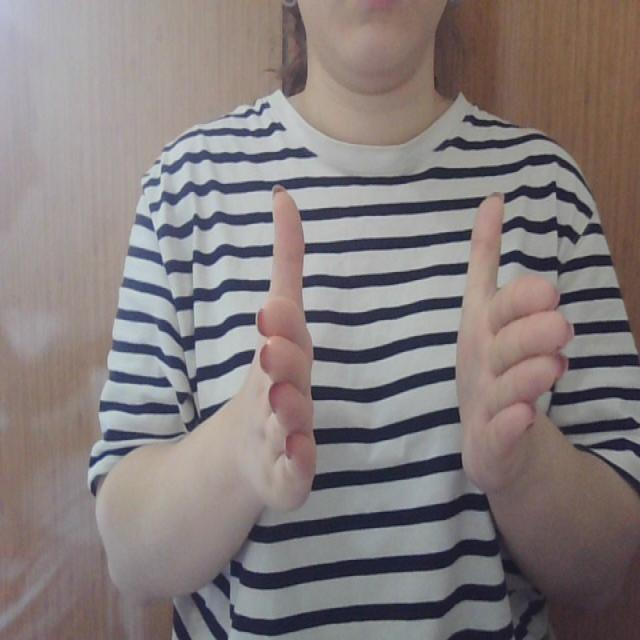Nasil: (230, 154, 582, 550)
